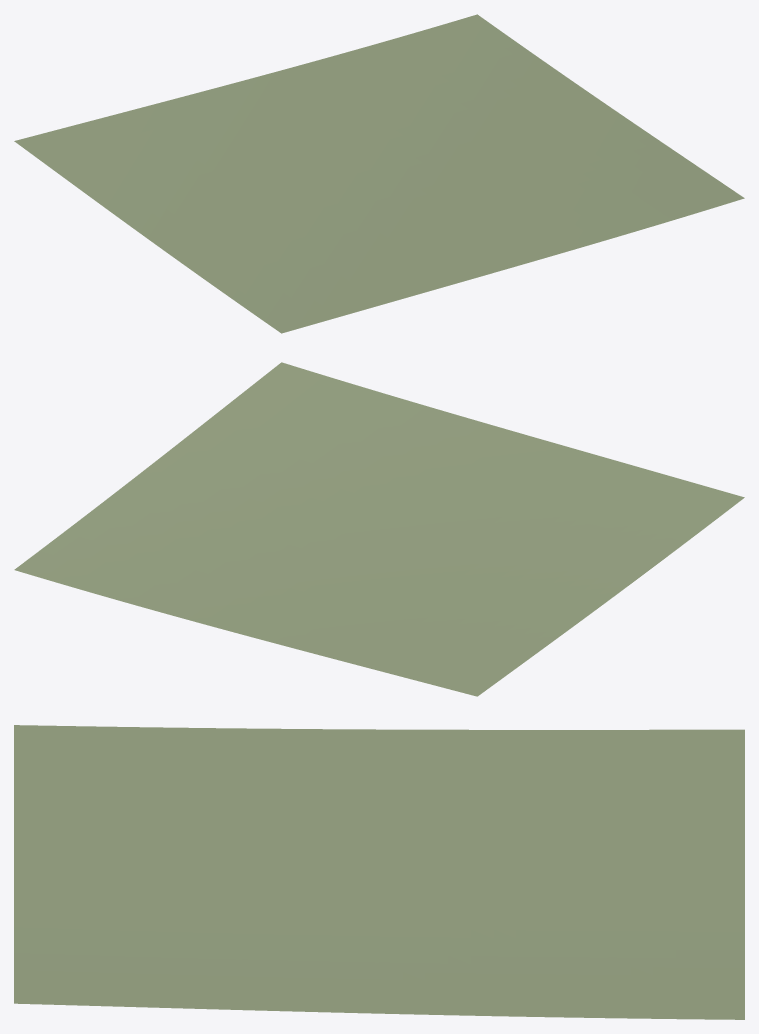
The model's file is expanse-19-12.glb.
3 renders of one model, top to bottom at view 1: azimuth 30°, elevation 25°; view 2: azimuth 150°, elevation 25°; view 3: azimuth 270°, elevation 25°, orthographic. The views are drawn at different scales.
Parts seen in each view (by area): view 1: expanse-19-12; view 2: expanse-19-12; view 3: expanse-19-12.
Part boxes in pixels (x1,y1,x2,y2): expanse-19-12: (14, 14, 744, 333); expanse-19-12: (14, 362, 744, 696); expanse-19-12: (14, 725, 744, 1019).
Size of the model in its own units: 256 by 13.57 by 256.
